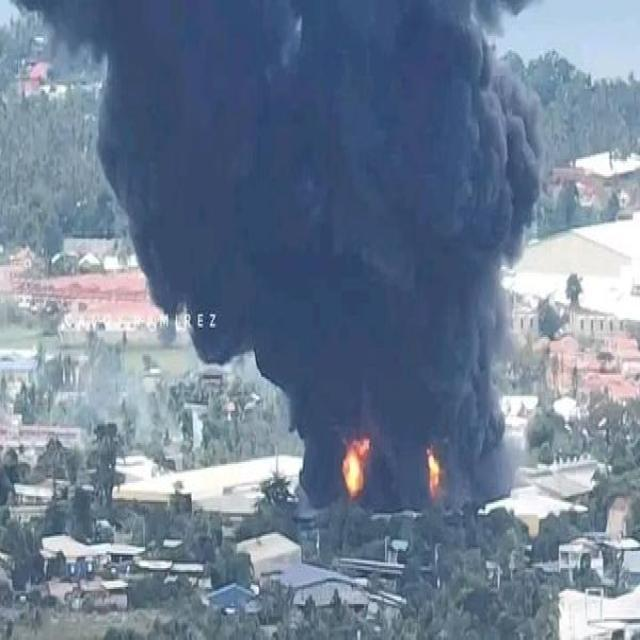Fire: (336, 427, 376, 494), (424, 446, 444, 500)
Smoke: (37, 0, 542, 515)
